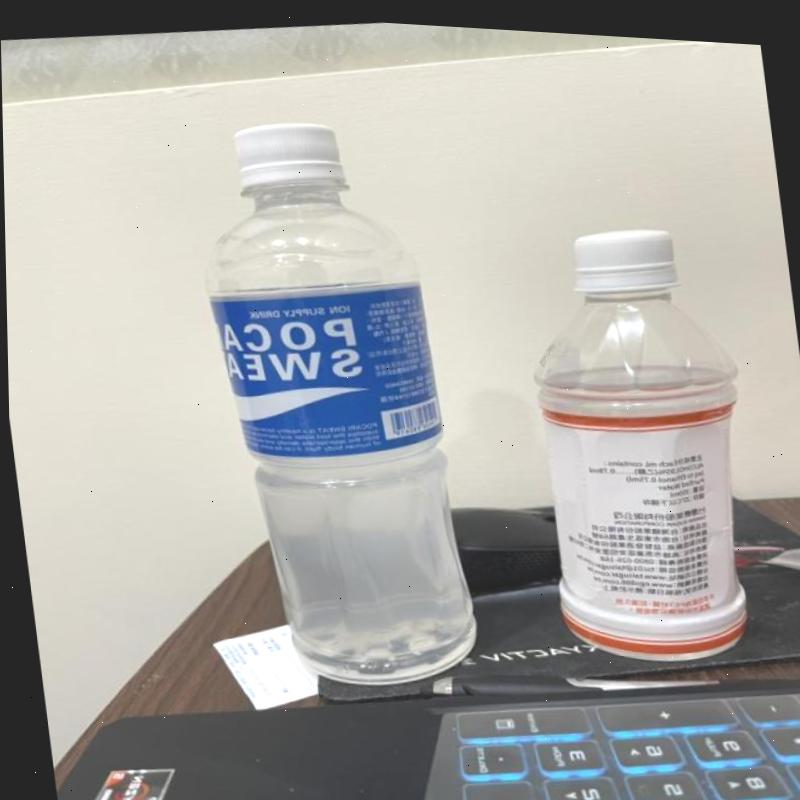botella: (180, 98, 479, 692), (499, 206, 770, 675)
